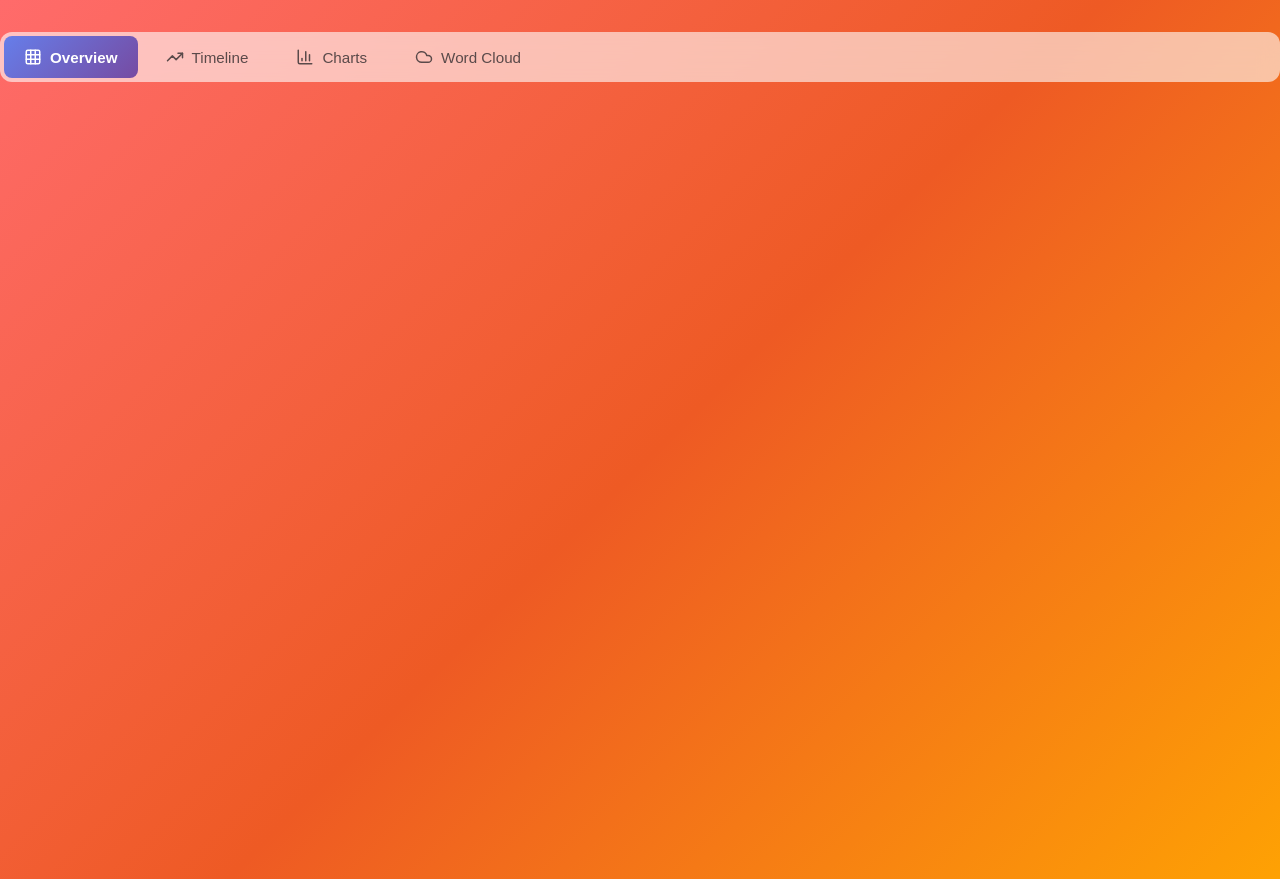
AnalyticsTabs › should switch to Timeline tab when clicked
The width and height of the screenshot is (1280, 879).
Click the button "Timeline".
click(207, 57)  # box left=146, top=36, right=268, bottom=78
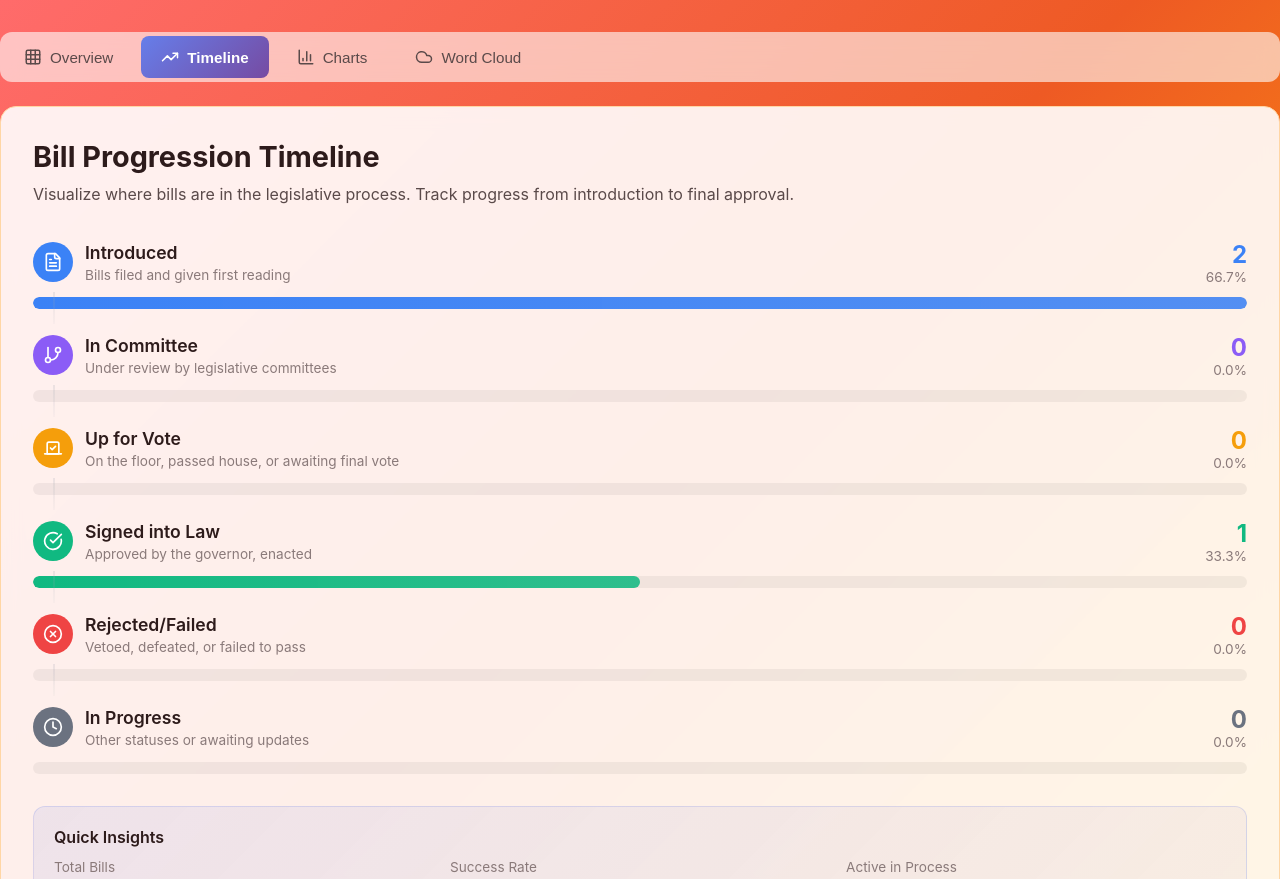
Now the heading "Bill Progression Timeline" is shown, box left=33, top=139, right=380, bottom=174
